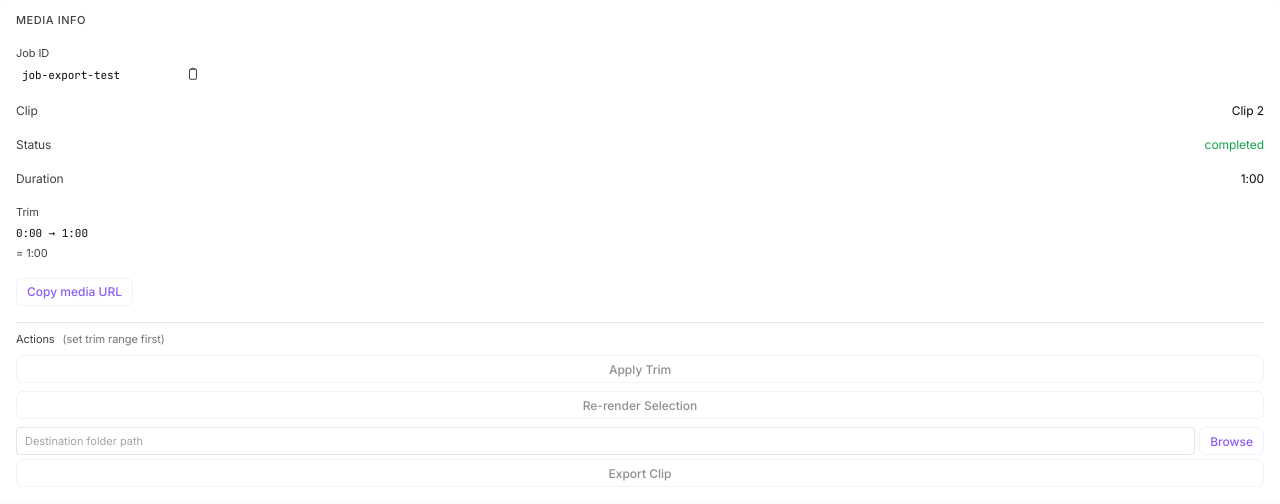
export-flow › export button becomes enabled after typing a path
Type "/home/user/exports" into the field with test id "export-dir-input" at (606, 441), box [16,427,1195,455]
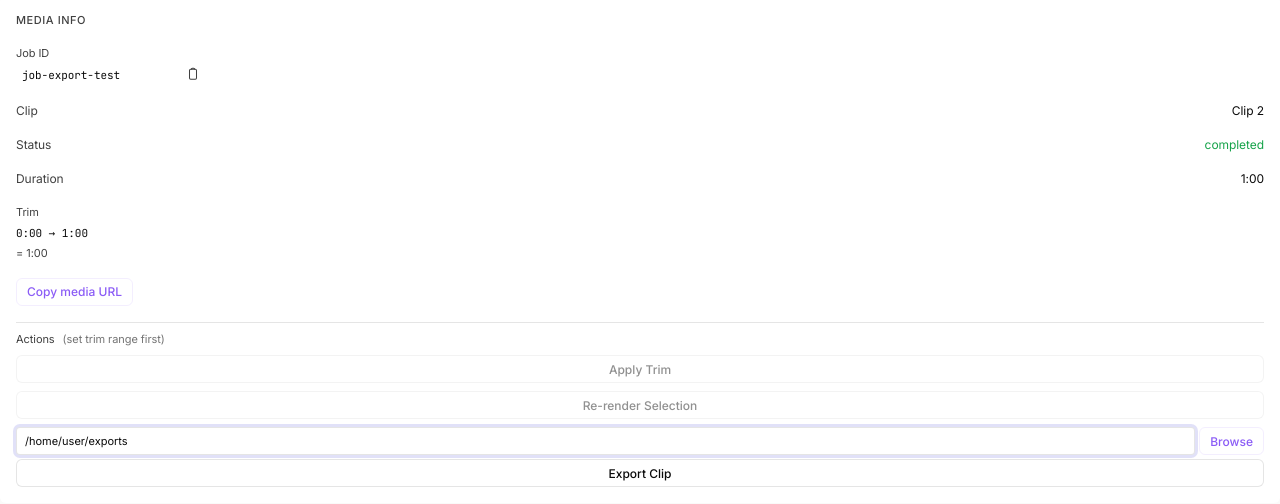
Expected: the button with test id "export-clip-btn" is enabled, [16,459,1264,487]
